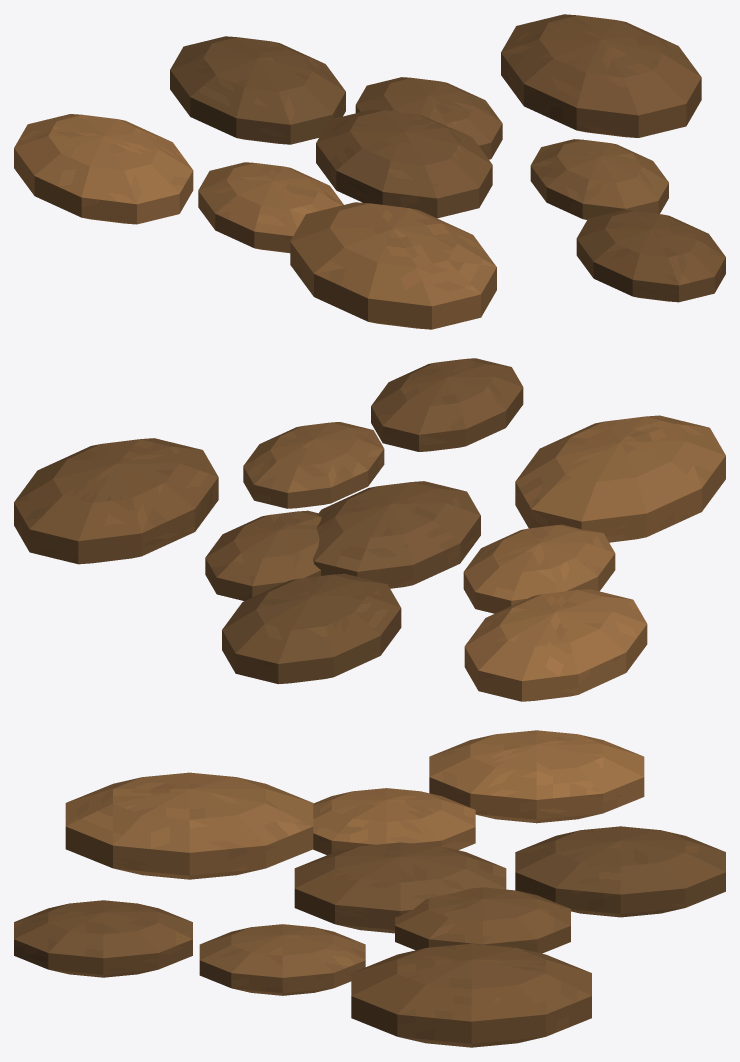
Rendered from seed_carrot.glb.
The picture shows the model from 3 angles, top to bottom: view 1: azimuth 30°, elevation 25°; view 2: azimuth 150°, elevation 25°; view 3: azimuth 270°, elevation 25°; orthographic projection. The views are drawn at different scales.
Visible parts, largest first — view 1: block_grain 5, block_grain 6, block_grain 7, block_grain 4, block_grain 0, block_grain 8, block_grain 2, block_grain 3, block_grain 1; view 2: block_grain 5, block_grain 6, block_grain 7, block_grain 4, block_grain 0, block_grain 8, block_grain 3, block_grain 2, block_grain 1; view 3: block_grain 5, block_grain 6, block_grain 7, block_grain 4, block_grain 0, block_grain 8, block_grain 3, block_grain 1, block_grain 2.
Part boxes in pixels (bbox=[...]): block_grain 5: bbox=[290, 202, 496, 329]; block_grain 6: bbox=[501, 14, 701, 137]; block_grain 7: bbox=[14, 114, 193, 224]; block_grain 4: bbox=[170, 36, 345, 144]; block_grain 0: bbox=[316, 109, 492, 218]; block_grain 8: bbox=[576, 210, 725, 302]; block_grain 2: bbox=[198, 162, 343, 253]; block_grain 3: bbox=[530, 139, 668, 219]; block_grain 1: bbox=[355, 77, 502, 159]; block_grain 5: bbox=[515, 415, 725, 542]; block_grain 6: bbox=[14, 438, 218, 564]; block_grain 7: bbox=[464, 589, 647, 701]; block_grain 4: bbox=[222, 573, 401, 684]; block_grain 0: bbox=[313, 481, 480, 588]; block_grain 8: bbox=[371, 358, 523, 451]; block_grain 3: bbox=[243, 422, 384, 508]; block_grain 2: bbox=[463, 524, 615, 613]; block_grain 1: bbox=[205, 510, 321, 600]; block_grain 5: bbox=[65, 772, 313, 879]; block_grain 6: bbox=[351, 943, 591, 1047]; block_grain 7: bbox=[429, 730, 644, 823]; block_grain 4: bbox=[515, 826, 725, 917]; block_grain 0: bbox=[294, 842, 506, 933]; block_grain 8: bbox=[14, 900, 192, 977]; block_grain 3: bbox=[199, 924, 365, 995]; block_grain 1: bbox=[395, 887, 570, 953]; block_grain 2: bbox=[313, 788, 475, 854].
Size of the model in its own units: 0.0215 by 0.00253 by 0.022.
Materials: 1 (1 with a texture image).
